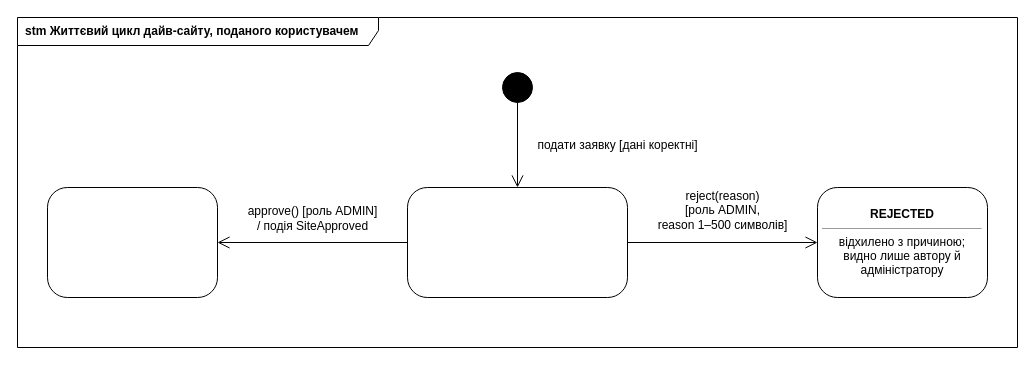
This 1035x365 diagram has some shape labels left out. Here are the shapes that lost their labels. From the top down, the centre of each, then its label:
(132,242): APPROVED опубліковано; видно всім на мапі
(517,242): PENDING на модерації; видно лише автору й адміністратору
